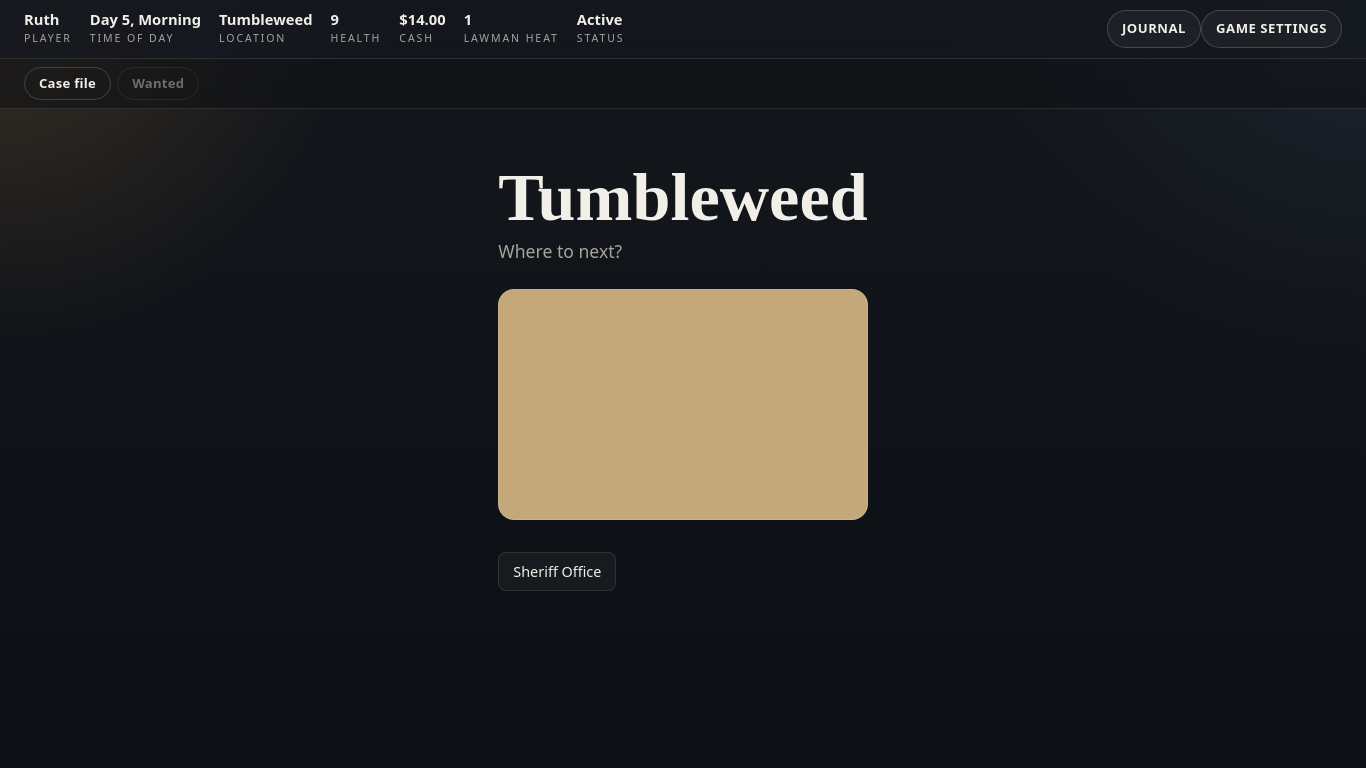
Test case: Start Over regression — player-facing, not dev-only › reaches Start Over through the player-facing Game Settings overlay, not through dev tooling
The image size is (1366, 768).
// Open the Game Settings overlay from the HUD (player-facing) button.
Click the button "Game Settings" at coordinates (1272, 29), box [1201,10,1342,48]
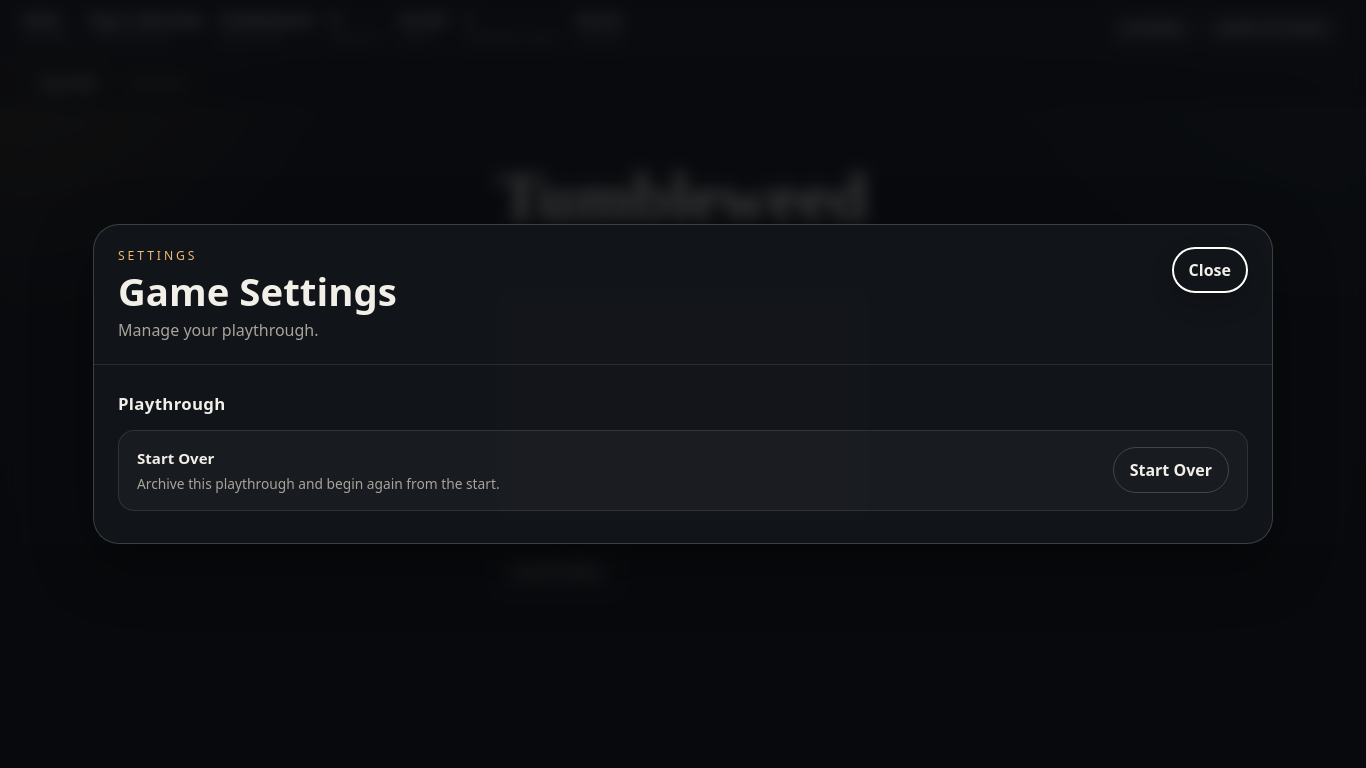
Expected: the heading "Playthrough" is shown, [118,392,226,415]
Expected: the button "Start Over" is shown, [1113,447,1229,493]
